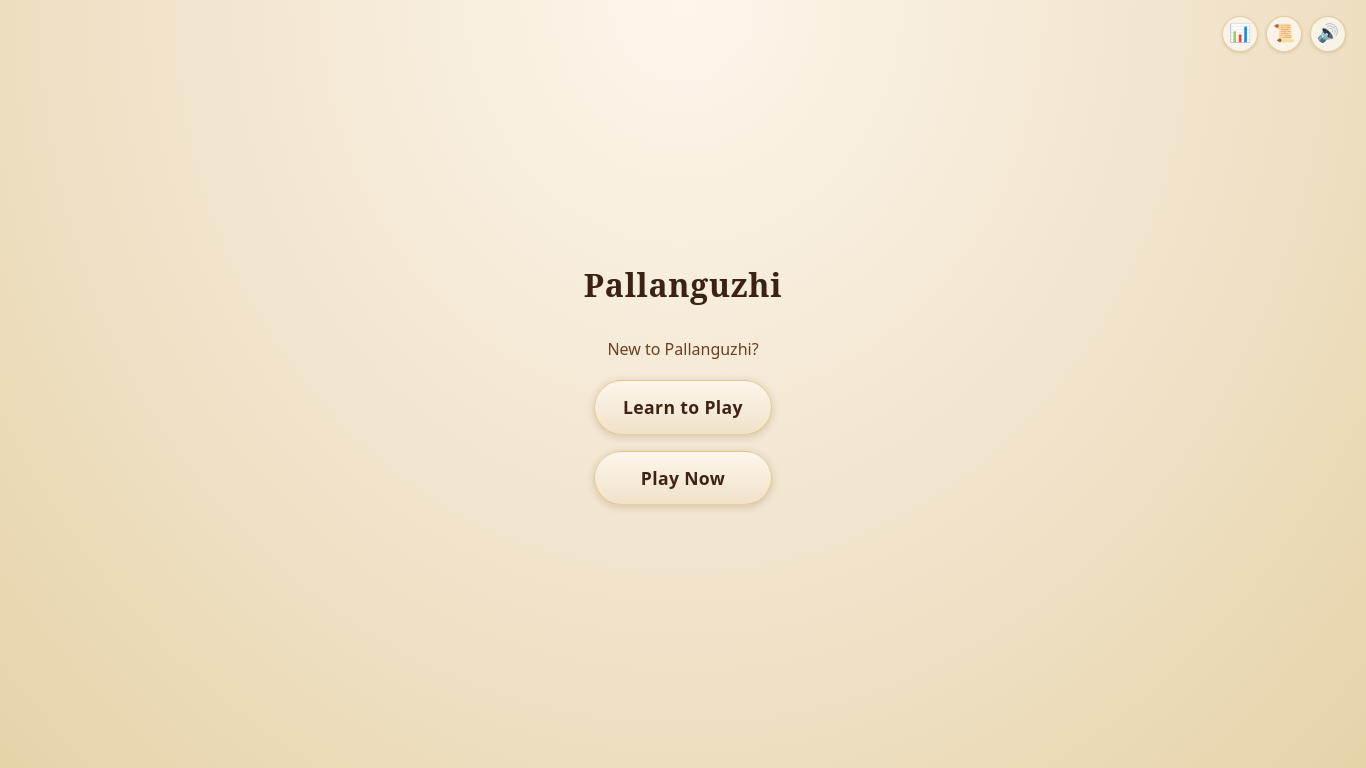
App › two-players mode › shows the pass-device screen after a move, blocking the board until Continue is tapped
Click the button "Play Now".
click(683, 478)  # box [594, 450, 772, 505]
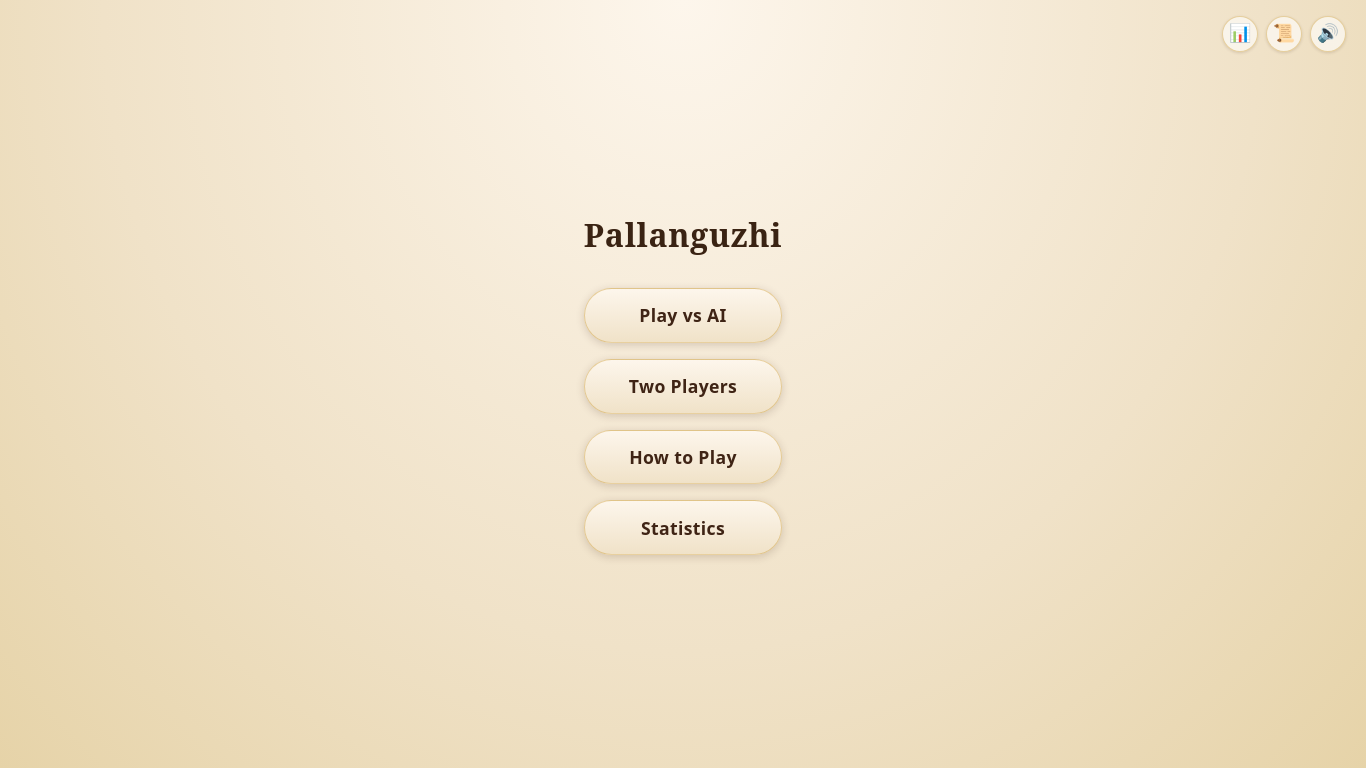
Click the button "Two Players".
click(683, 386)  # box [584, 359, 782, 414]
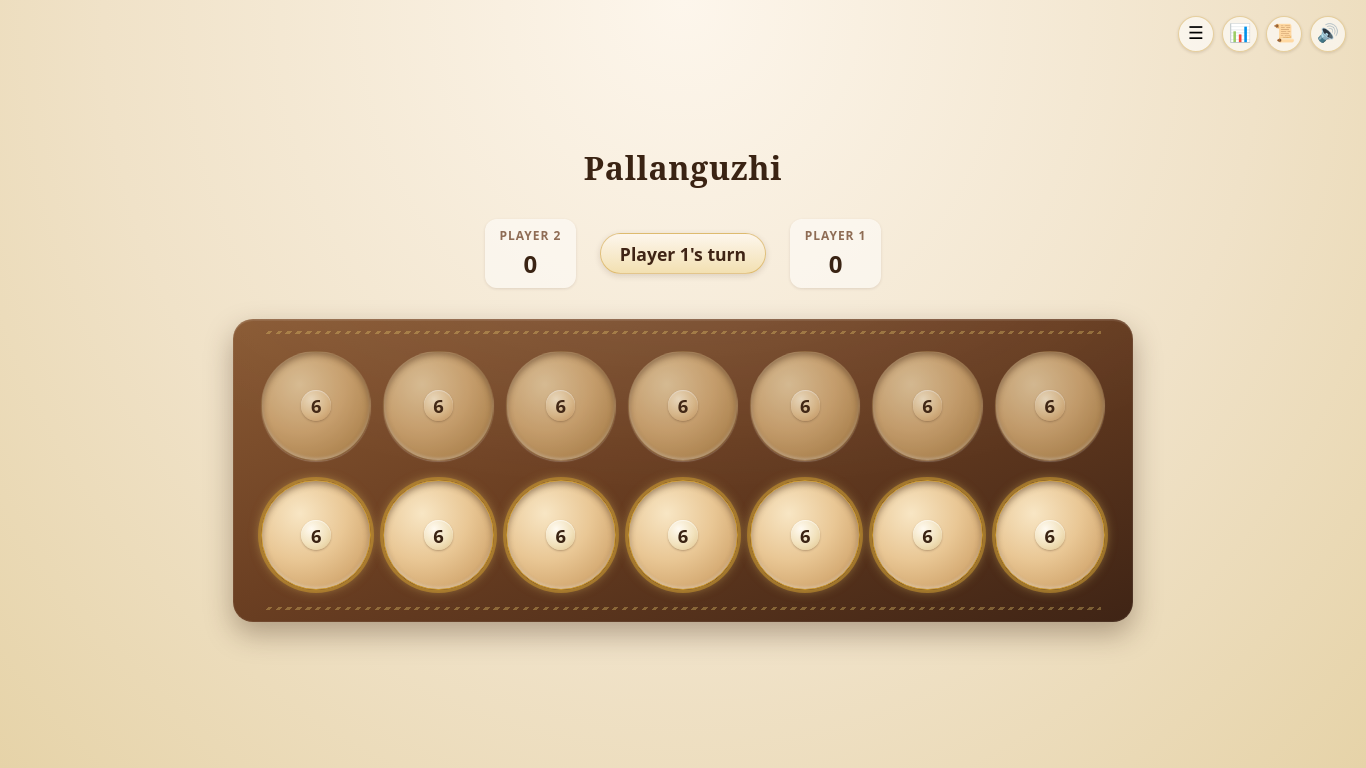
Click the button with test id "pit-7".
click(316, 535)  # box [261, 480, 371, 590]
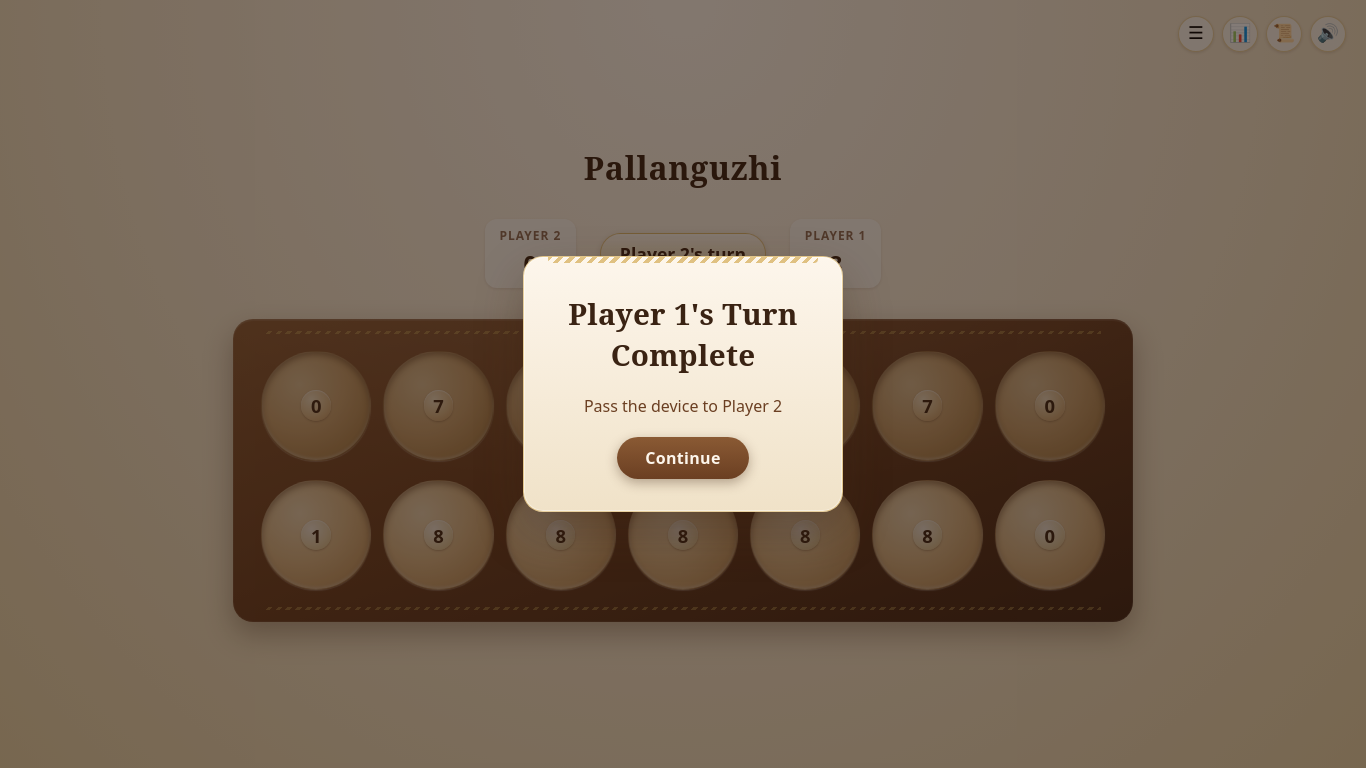
Check: the element with test id "pass-device-overlay" is shown
Check: the heading "Player 1's Turn Complete" is shown, box [556, 293, 810, 375]
Check: the text "Pass the device to Player 2" is shown, box [584, 395, 782, 417]
Click the button "Continue".
click(683, 458)  # box [617, 437, 749, 479]
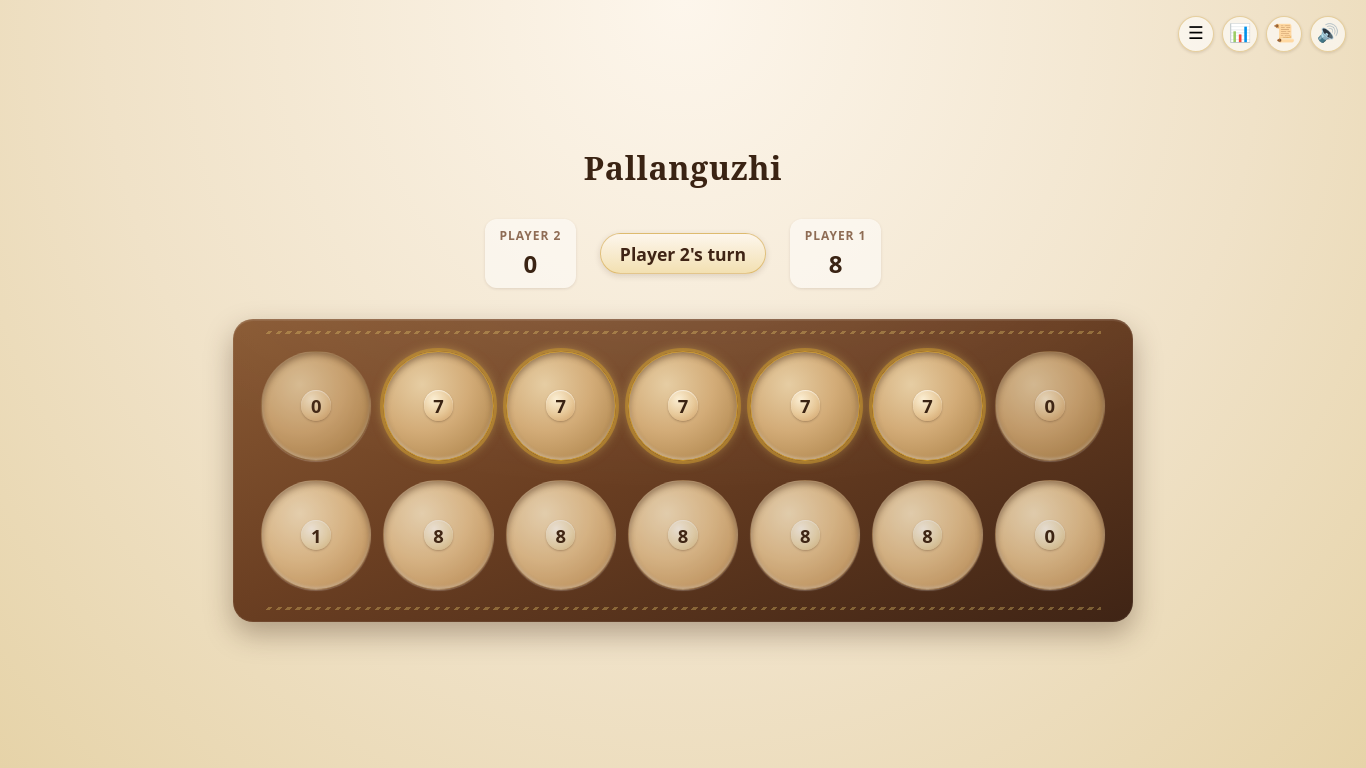
Check: the button with test id "pit-7" is disabled, box [261, 480, 371, 590]
Check: the button with test id "pit-8" is disabled, box [383, 480, 494, 590]
Check: the element with test id "pass-device-overlay" is gone
